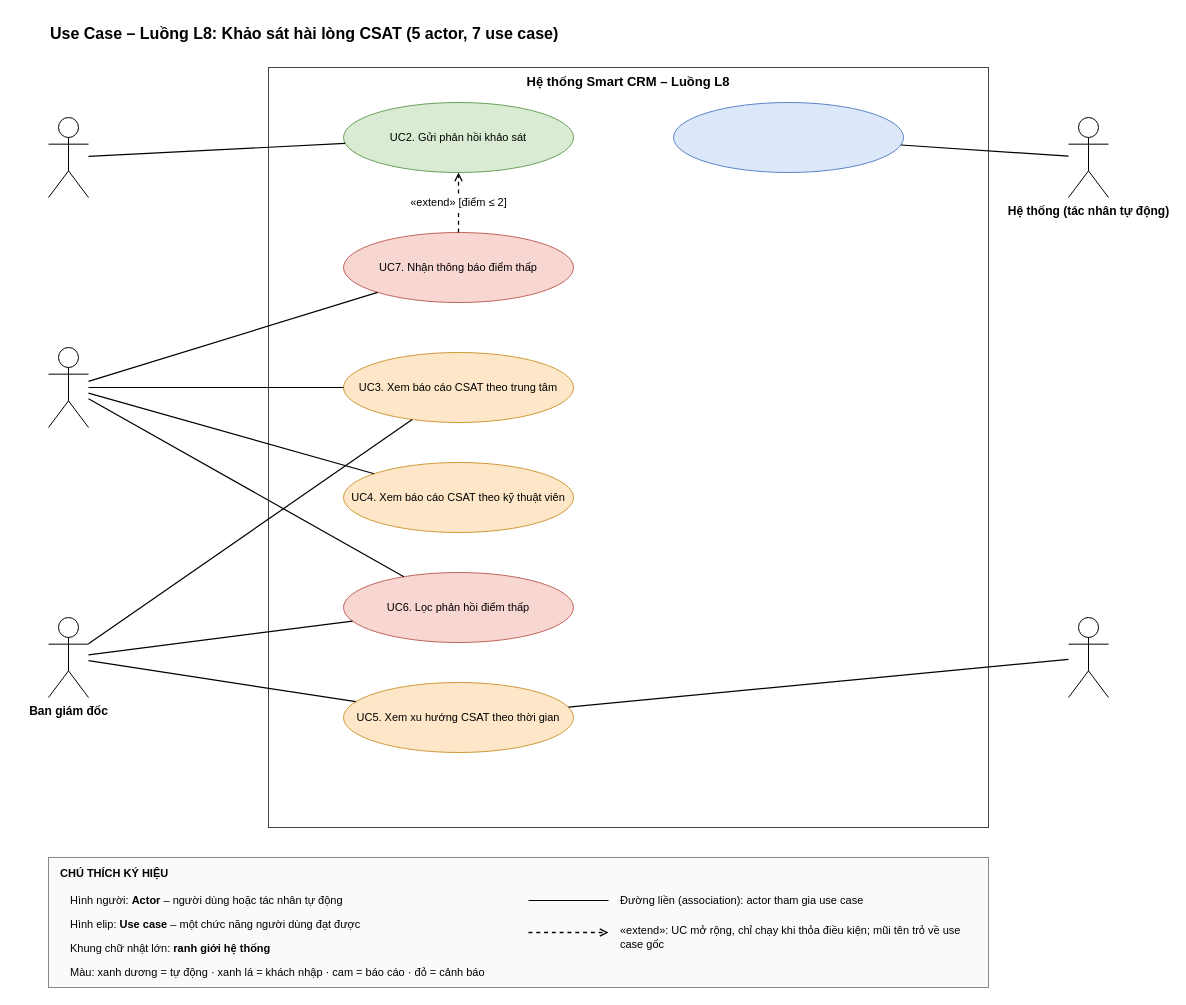
Some shapes in this 1186 by 1005 pixel diagram are drawn without their labels. The centre of each missing label's shape, as x and y in pixels:
"Khách hàng" belongs at point 68,157.
"Marketing" belongs at point 1088,657.
"Quản lý trung tâm" belongs at point 68,387.
"UC1. Tạo khảo sát tự động" belongs at point 788,137.
